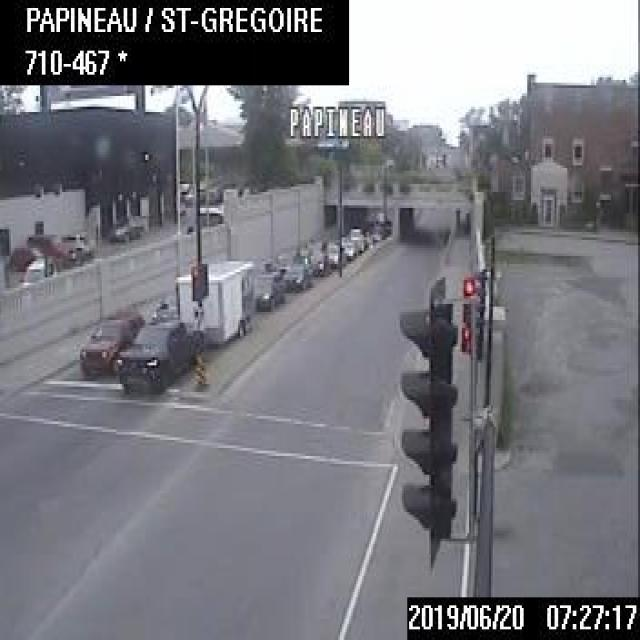vehicle: (117, 254, 257, 394), (75, 302, 146, 383), (23, 227, 89, 272), (102, 209, 148, 248), (253, 269, 286, 314), (282, 259, 311, 293), (306, 245, 326, 276), (322, 241, 341, 269), (342, 240, 355, 258)
